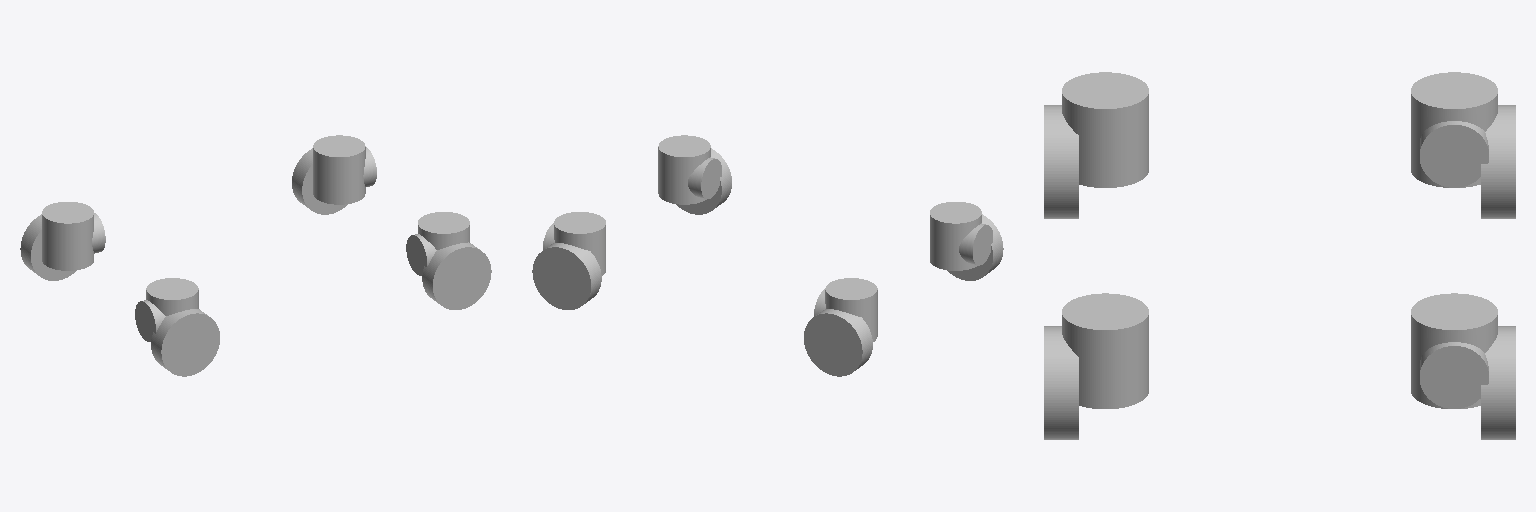
robot.urdf — mobile_robot:
<?xml version="1.0" ?>
<robot name="mobile_robot">
  <!--Generated by CROSS, a ROS Workbench for FreeCAD (https://github.com/galou/freecad.cross)-->
  <link name="undercarriage">
    <visual>
      <!--Body-->
      <origin rpy="0.0 -0.0 -1.570796326794897" xyz="0.0 0.0 0.0"/>
      <geometry>
        <mesh filename="package://robots_description/meshes/Body.dae"/>
      </geometry>
    </visual>
    <collision>
      <origin rpy="0.0 -0.0 -1.570796326794897" xyz="0.0 2.84217e-17 0.0075"/>
      <geometry>
        <box size="0.3 0.4 0.025"/>
      </geometry>
    </collision>
    <inertial>
      <mass value="0.0"/>
      <origin rpy="0.0 -0.0 0.0" xyz="0.0 0.0 0.0"/>
      <inertia ixx="0.0" ixy="0.0" ixz="0.0" iyy="0.0" iyz="0.0" izz="0.0"/>
    </inertial>
  </link>
  <link name="hub_hr">
    <visual>
      <!--Body001-->
      <origin rpy="0.0 -0.0 -1.570796326794897" xyz="0.0 0.0 0.0"/>
      <geometry>
        <mesh filename="package://robots_description/meshes/Body001.dae"/>
      </geometry>
    </visual>
    <collision>
      <origin rpy="0.0 -0.0 -1.570796326794897" xyz="0.0 0.0 0.0325"/>
      <geometry>
        <box size="0.05 0.05 0.065"/>
      </geometry>
    </collision>
    <inertial>
      <mass value="0.0"/>
      <origin rpy="0.0 -0.0 0.0" xyz="0.0 0.0 0.0"/>
      <inertia ixx="0.0" ixy="0.0" ixz="0.0" iyy="0.0" iyz="0.0" izz="0.0"/>
    </inertial>
  </link>
  <link name="hub_hl">
    <visual>
      <!--Body001-->
      <origin rpy="0.0 -0.0 -1.570796326794897" xyz="0.0 0.0 0.0"/>
      <geometry>
        <mesh filename="package://robots_description/meshes/Body001.dae"/>
      </geometry>
    </visual>
    <collision>
      <origin rpy="0.0 -0.0 -1.570796326794897" xyz="0.0 0.0 0.0325"/>
      <geometry>
        <box size="0.05 0.05 0.065"/>
      </geometry>
    </collision>
    <inertial>
      <mass value="0.0"/>
      <origin rpy="0.0 -0.0 0.0" xyz="0.0 0.0 0.0"/>
      <inertia ixx="0.0" ixy="0.0" ixz="0.0" iyy="0.0" iyz="0.0" izz="0.0"/>
    </inertial>
  </link>
  <link name="hub_br">
    <visual>
      <!--Body001-->
      <origin rpy="0.0 -0.0 -1.570796326794897" xyz="0.0 0.0 0.0"/>
      <geometry>
        <mesh filename="package://robots_description/meshes/Body001.dae"/>
      </geometry>
    </visual>
    <collision>
      <origin rpy="0.0 -0.0 -1.570796326794897" xyz="0.0 0.0 0.0325"/>
      <geometry>
        <box size="0.05 0.05 0.065"/>
      </geometry>
    </collision>
    <inertial>
      <mass value="0.0"/>
      <origin rpy="0.0 -0.0 0.0" xyz="0.0 0.0 0.0"/>
      <inertia ixx="0.0" ixy="0.0" ixz="0.0" iyy="0.0" iyz="0.0" izz="0.0"/>
    </inertial>
  </link>
  <link name="hub_bl">
    <visual>
      <!--Body001-->
      <origin rpy="0.0 -0.0 -1.570796326794897" xyz="0.0 0.0 0.0"/>
      <geometry>
        <mesh filename="package://robots_description/meshes/Body001.dae"/>
      </geometry>
    </visual>
    <collision>
      <origin rpy="0.0 -0.0 -1.570796326794897" xyz="0.0 0.0 0.0325"/>
      <geometry>
        <box size="0.05 0.05 0.065"/>
      </geometry>
    </collision>
    <inertial>
      <mass value="0.0"/>
      <origin rpy="0.0 -0.0 0.0" xyz="0.0 0.0 0.0"/>
      <inertia ixx="0.0" ixy="0.0" ixz="0.0" iyy="0.0" iyz="0.0" izz="0.0"/>
    </inertial>
  </link>
  <link name="wheel_hr">
    <visual>
      <!--Body002-->
      <origin rpy="3.141592653589793 -0.0 -1.570796326794897" xyz="0.0 0.0 0.01"/>
      <geometry>
        <mesh filename="package://robots_description/meshes/Body002.dae"/>
      </geometry>
    </visual>
    <collision>
      <!--Body003-->
      <origin rpy="3.141592653589793 -0.0 -1.570796326794897" xyz="0.0 0.0 0.01"/>
      <geometry>
        <mesh filename="package://robots_description/meshes/Body003.dae"/>
      </geometry>
    </collision>
    <inertial>
      <mass value="0.0"/>
      <origin rpy="0.0 -0.0 0.0" xyz="0.0 0.0 0.0"/>
      <inertia ixx="0.0" ixy="0.0" ixz="0.0" iyy="0.0" iyz="0.0" izz="0.0"/>
    </inertial>
  </link>
  <link name="wheel_hl">
    <visual>
      <!--Body002-->
      <origin rpy="3.141592653589793 -0.0 -1.570796326794897" xyz="0.0 0.0 0.01"/>
      <geometry>
        <mesh filename="package://robots_description/meshes/Body002.dae"/>
      </geometry>
    </visual>
    <collision>
      <!--Body003-->
      <origin rpy="3.141592653589793 -0.0 -1.570796326794897" xyz="0.0 0.0 0.01"/>
      <geometry>
        <mesh filename="package://robots_description/meshes/Body003.dae"/>
      </geometry>
    </collision>
    <inertial>
      <mass value="0.0"/>
      <origin rpy="0.0 -0.0 0.0" xyz="0.0 0.0 0.0"/>
      <inertia ixx="0.0" ixy="0.0" ixz="0.0" iyy="0.0" iyz="0.0" izz="0.0"/>
    </inertial>
  </link>
  <link name="wheel_br">
    <visual>
      <!--Body002-->
      <origin rpy="3.141592653589793 -0.0 -1.570796326794897" xyz="0.0 0.0 0.01"/>
      <geometry>
        <mesh filename="package://robots_description/meshes/Body002.dae"/>
      </geometry>
    </visual>
    <collision>
      <!--Body003-->
      <origin rpy="3.141592653589793 -0.0 -1.570796326794897" xyz="0.0 0.0 0.01"/>
      <geometry>
        <mesh filename="package://robots_description/meshes/Body003.dae"/>
      </geometry>
    </collision>
    <inertial>
      <mass value="0.0"/>
      <origin rpy="0.0 -0.0 0.0" xyz="0.0 0.0 0.0"/>
      <inertia ixx="0.0" ixy="0.0" ixz="0.0" iyy="0.0" iyz="0.0" izz="0.0"/>
    </inertial>
  </link>
  <link name="wheel_bl">
    <visual>
      <!--Body002-->
      <origin rpy="3.141592653589793 -0.0 -1.570796326794897" xyz="0.0 0.0 0.01"/>
      <geometry>
        <mesh filename="package://robots_description/meshes/Body002.dae"/>
      </geometry>
    </visual>
    <collision>
      <!--Body003-->
      <origin rpy="3.141592653589793 -0.0 -1.570796326794897" xyz="0.0 0.0 0.01"/>
      <geometry>
        <mesh filename="package://robots_description/meshes/Body003.dae"/>
      </geometry>
    </collision>
    <inertial>
      <mass value="0.0"/>
      <origin rpy="0.0 -0.0 0.0" xyz="0.0 0.0 0.0"/>
      <inertia ixx="0.0" ixy="0.0" ixz="0.0" iyy="0.0" iyz="0.0" izz="0.0"/>
    </inertial>
  </link>
  <joint name="undercarriage-hub_hr" type="revolute">
    <parent link="undercarriage"/>
    <child link="hub_hr"/>
    <origin rpy="3.141592653589793 -0.0 0.0" xyz="-0.3 -0.2 -0.005"/>
    <axis xyz="0 0 1"/>
    <limit effort="0.0" lower="0.0" upper="0.0" velocity="0.0"/>
  </joint>
  <joint name="undercarriage-hub_hl" type="revolute">
    <parent link="undercarriage"/>
    <child link="hub_hl"/>
    <origin rpy="3.141592653589793 1.224646799147353e-16 3.141592653589793" xyz="-0.3 0.2 -0.005"/>
    <axis xyz="0 0 1"/>
    <limit effort="0.0" lower="0.0" upper="0.0" velocity="0.0"/>
  </joint>
  <joint name="undercarriage-hub_br" type="revolute">
    <parent link="undercarriage"/>
    <child link="hub_br"/>
    <origin rpy="3.141592653589793 -0.0 0.0" xyz="0.3 -0.2 -0.005"/>
    <axis xyz="0 0 1"/>
    <limit effort="0.0" lower="0.0" upper="0.0" velocity="0.0"/>
  </joint>
  <joint name="undercarriage-hub_bl" type="revolute">
    <parent link="undercarriage"/>
    <child link="hub_bl"/>
    <origin rpy="3.141592653589793 1.224646799147353e-16 3.141592653589793" xyz="0.3 0.2 -0.005"/>
    <axis xyz="0 0 1"/>
    <limit effort="0.0" lower="0.0" upper="0.0" velocity="0.0"/>
  </joint>
  <joint name="hub_hr-wheel_hr" type="revolute">
    <parent link="hub_hr"/>
    <child link="wheel_hr"/>
    <origin rpy="-1.570796326794897 -0.0 0.0" xyz="0.0 0.02 0.09"/>
    <axis xyz="0 0 1"/>
    <limit effort="0.0" lower="0.0" upper="0.0" velocity="0.0"/>
  </joint>
  <joint name="hub_hl-wheel_hl" type="revolute">
    <parent link="hub_hl"/>
    <child link="wheel_hl"/>
    <origin rpy="-1.570796326794897 -0.0 0.0" xyz="0.0 0.02 0.09"/>
    <axis xyz="0 0 1"/>
    <limit effort="0.0" lower="0.0" upper="0.0" velocity="0.0"/>
  </joint>
  <joint name="hub_br-wheel_br" type="revolute">
    <parent link="hub_br"/>
    <child link="wheel_br"/>
    <origin rpy="-1.570796326794897 -0.0 0.0" xyz="0.0 0.02 0.09"/>
    <axis xyz="0 0 1"/>
    <limit effort="0.0" lower="0.0" upper="0.0" velocity="0.0"/>
  </joint>
  <joint name="hub_bl-wheel_bl" type="revolute">
    <parent link="hub_bl"/>
    <child link="wheel_bl"/>
    <origin rpy="-1.570796326794897 -0.0 0.0" xyz="0.0 0.02 0.09"/>
    <axis xyz="0 0 1"/>
    <limit effort="0.0" lower="0.0" upper="0.0" velocity="0.0"/>
  </joint>
</robot>

--- Render facts (derived) ---
The picture shows the robot from 3 angles, left to right: view 1: azimuth 30°, elevation 25°; view 2: azimuth 150°, elevation 25°; view 3: azimuth 270°, elevation 25°; orthographic projection.
Robot: mobile_robot — 9 links, 8 joints (8 revolute); root link undercarriage; default pose: every joint at zero.
Links seen in each view (by area): view 1: hub_bl, hub_hl, wheel_hr, wheel_br, hub_hr, hub_br, wheel_hl, wheel_bl; view 2: hub_br, hub_hr, wheel_hl, wheel_bl, hub_hl, hub_bl, wheel_hr, wheel_br; view 3: hub_hl, hub_bl, hub_hr, hub_br, wheel_hr, wheel_br, wheel_hl, wheel_bl.
Link boxes in pixels (x1,y1,x2,y2): hub_bl: (313, 135, 376, 204); hub_hl: (42, 202, 105, 270); wheel_hr: (151, 309, 219, 376); wheel_br: (422, 242, 491, 309); hub_hr: (135, 278, 198, 341); hub_br: (406, 212, 469, 275); wheel_hl: (20, 214, 76, 280); wheel_bl: (292, 148, 347, 214); hub_br: (658, 135, 721, 204); hub_hr: (930, 202, 992, 270); wheel_hl: (804, 309, 872, 376); wheel_bl: (532, 243, 601, 309); hub_hl: (814, 278, 877, 341); hub_bl: (543, 212, 605, 275); wheel_hr: (947, 214, 1003, 280); wheel_br: (676, 148, 731, 214); hub_hl: (1411, 72, 1497, 187); hub_bl: (1411, 293, 1497, 408); hub_hr: (1062, 72, 1148, 187); hub_br: (1062, 293, 1148, 408); wheel_hr: (1044, 105, 1078, 218); wheel_br: (1044, 326, 1078, 439); wheel_hl: (1481, 105, 1515, 218); wheel_bl: (1481, 326, 1515, 439).
Size in the robot's own frame: 0.73 by 0.54 by 0.155 metres.
8 mesh visuals loaded from 3 distinct referenced files (2 Collada DAE); not drawn: 1 (file found but could not be loaded).